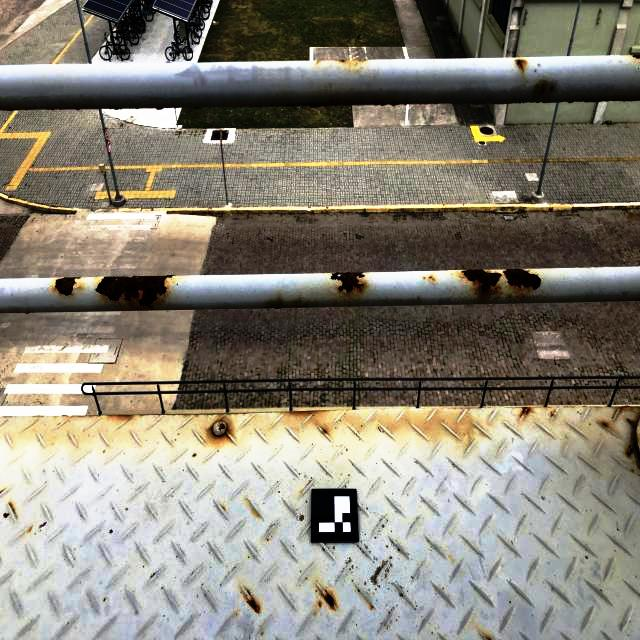Corrosion: (95, 276, 176, 307), (462, 269, 503, 291), (504, 269, 542, 289), (331, 272, 364, 292), (54, 277, 75, 295), (512, 57, 529, 76), (287, 410, 325, 415), (325, 591, 335, 608), (249, 598, 260, 611), (627, 444, 634, 456), (219, 422, 226, 433), (110, 415, 134, 418), (522, 407, 531, 413), (323, 428, 327, 435)
